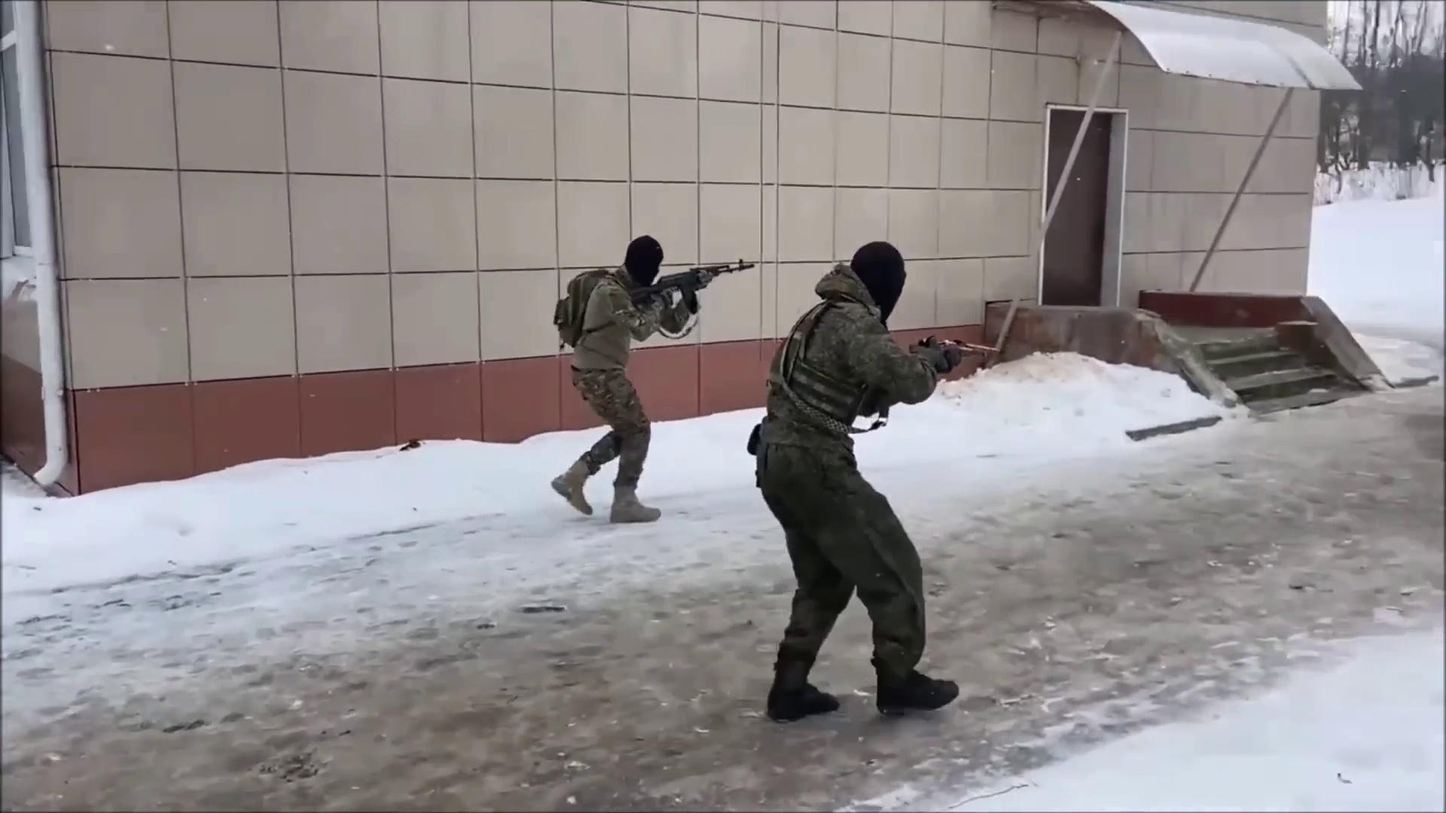person: (745, 238, 969, 727), (550, 235, 715, 525)
rifle: (902, 329, 1009, 371)
